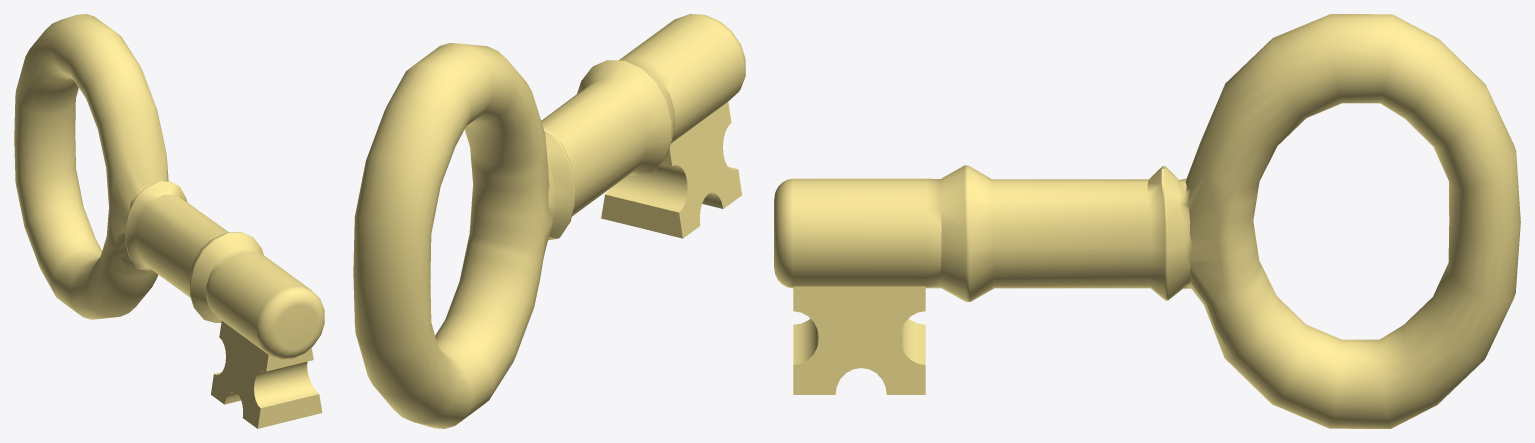
The model's file is Key.fbx.
3 renders of one model, left to right at view 1: azimuth 30°, elevation 25°; view 2: azimuth 150°, elevation 25°; view 3: azimuth 270°, elevation 25°, orthographic. The views are drawn at different scales.
Parts seen in each view (by area): view 1: polySurface1; view 2: polySurface1; view 3: polySurface1.
Part boxes in pixels (x1,y1,x2,y2): polySurface1: [14, 14, 324, 428]; polySurface1: [353, 14, 745, 428]; polySurface1: [774, 14, 1520, 428].
Size of the model in its own units: 1.72 by 6.27 by 10.42.
